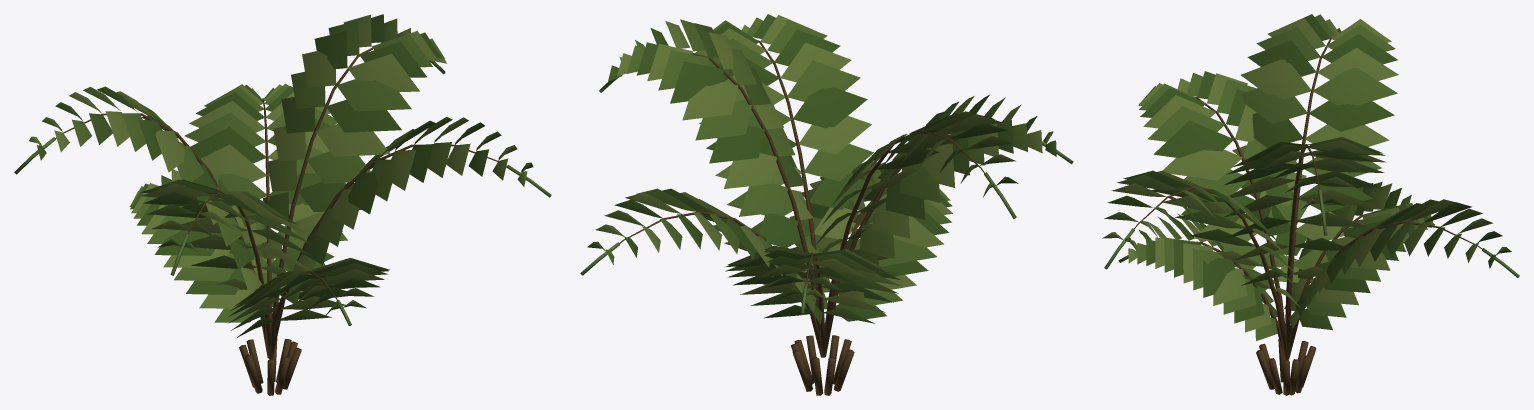
File: fern.glb
3 views of the same model, side by side, from view 1: azimuth 30°, elevation 25°; view 2: azimuth 150°, elevation 25°; view 3: azimuth 270°, elevation 25° (orthographic). The views are drawn at different scales.
Visible parts, largest first — view 1: MV_fern; view 2: MV_fern; view 3: MV_fern.
Boxes of the visible parts, x1,y1,x2,y2 form: MV_fern: [14, 14, 551, 395]; MV_fern: [580, 14, 1073, 395]; MV_fern: [1102, 14, 1519, 395].
Size of the model in its own units: 0.8937 by 0.66 by 0.807.
